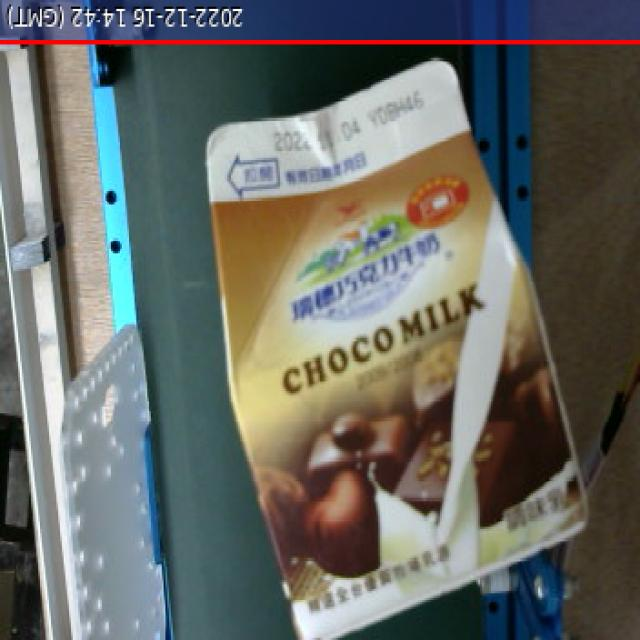non_white_jug: (185, 32, 609, 640)
